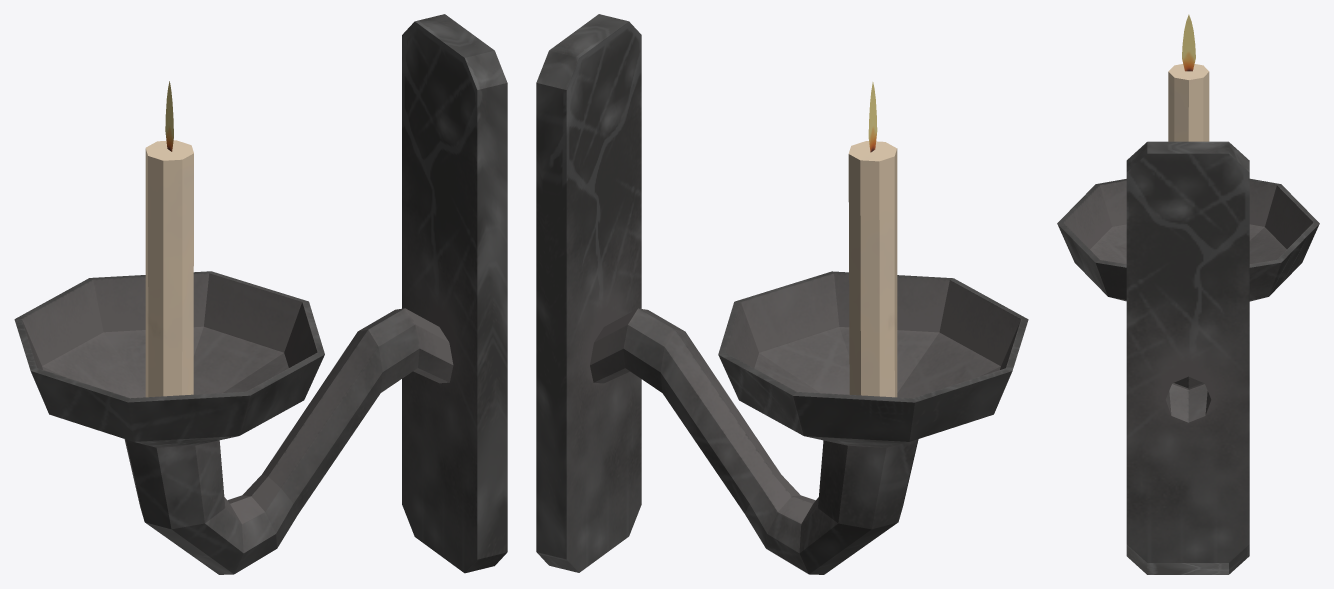
File: Candle.fbx
The picture shows the model from 3 angles, left to right: view 1: azimuth 30°, elevation 25°; view 2: azimuth 150°, elevation 25°; view 3: azimuth 270°, elevation 25°; orthographic projection. The views are drawn at different scales.
Parts seen in each view (by area): view 1: Candle.001; view 2: Candle.001; view 3: Candle.001.
Part boxes in pixels (x1,y1,x2,y2): Candle.001: [14, 14, 507, 574]; Candle.001: [536, 14, 1028, 574]; Candle.001: [1057, 14, 1319, 574].
Bounding box in the file's own units: 36.34 × 42.73 × 23.05.
Materials: 1 (1 with a texture image).
